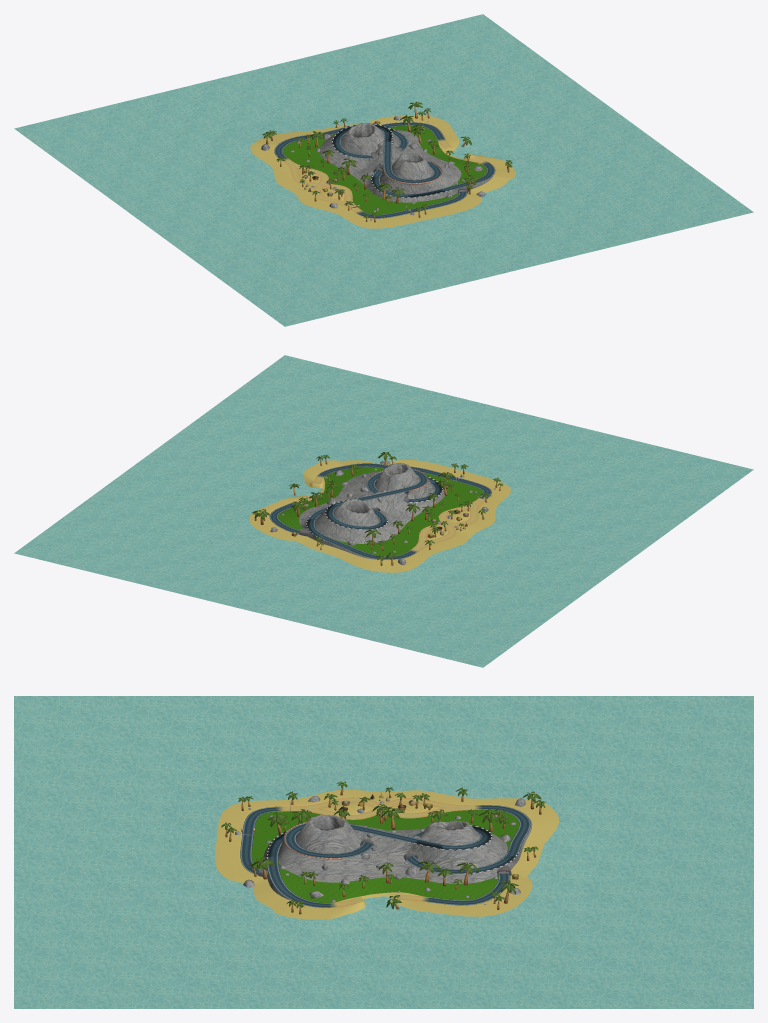
File: volcano_island_track.glb
The picture shows the model from 3 angles, top to bottom: view 1: azimuth 30°, elevation 25°; view 2: azimuth 150°, elevation 25°; view 3: azimuth 270°, elevation 25°; orthographic projection. The views are drawn at different scales.
Parts seen in each view (by area): view 1: sea.png__, seabed.jpg__, sand.jpg__, rock02.jpg__, grass.jpg__, road1.jpg__, palmtree3.jpg__, road3.jpg__, rock1.jpg__; view 2: sea.png__, seabed.jpg__, sand.jpg__, rock02.jpg__, grass.jpg__, road1.jpg__, palmtree3.jpg__, road3.jpg__, rock1.jpg__; view 3: sea.png__, seabed.jpg__, sand.jpg__, rock02.jpg__, grass.jpg__, road1.jpg__, palmtree3.jpg__, road3.jpg__, rock1.jpg__, road4.jpg__, cross.jpg__.
Part boxes in pixels (x1,y1,x2,y2): sea.png__: (14, 14, 753, 326); seabed.jpg__: (15, 14, 752, 326); sand.jpg__: (209, 100, 559, 252); rock02.jpg__: (277, 123, 494, 202); grass.jpg__: (282, 125, 486, 214); road1.jpg__: (274, 122, 495, 218); palmtree3.jpg__: (262, 101, 512, 222); road3.jpg__: (290, 140, 485, 211); rock1.jpg__: (261, 116, 486, 220); sea.png__: (14, 355, 753, 667); seabed.jpg__: (15, 355, 752, 667); sand.jpg__: (203, 446, 554, 595); rock02.jpg__: (299, 463, 444, 559); grass.jpg__: (278, 466, 483, 556); road1.jpg__: (269, 463, 491, 559); palmtree3.jpg__: (252, 451, 503, 565); road3.jpg__: (295, 477, 485, 542); rock1.jpg__: (265, 461, 495, 565); sea.png__: (14, 696, 753, 1008); seabed.jpg__: (14, 696, 753, 1008); sand.jpg__: (157, 773, 616, 947); rock02.jpg__: (263, 813, 532, 901); grass.jpg__: (252, 810, 519, 902); road1.jpg__: (240, 805, 530, 907); palmtree3.jpg__: (221, 781, 546, 914); road3.jpg__: (283, 797, 441, 907); rock1.jpg__: (235, 795, 525, 904); road4.jpg__: (364, 897, 399, 934); cross.jpg__: (291, 802, 474, 814).
Bounding box in the file's own units: 750 × 49.85 × 750.
36 materials, 35 textured.
